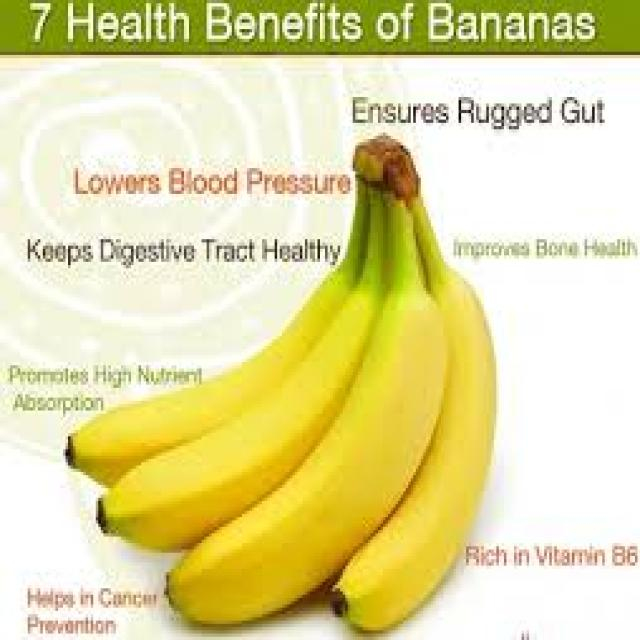banana: (63, 132, 496, 634)
